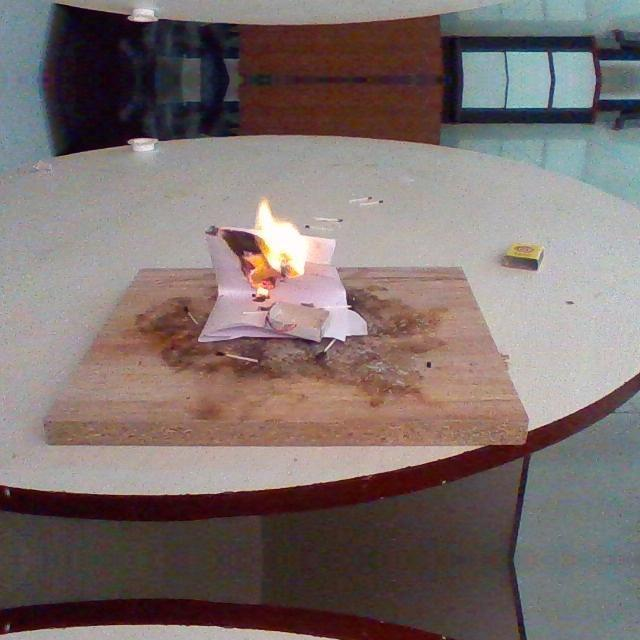smoke: (250, 194, 310, 278)
